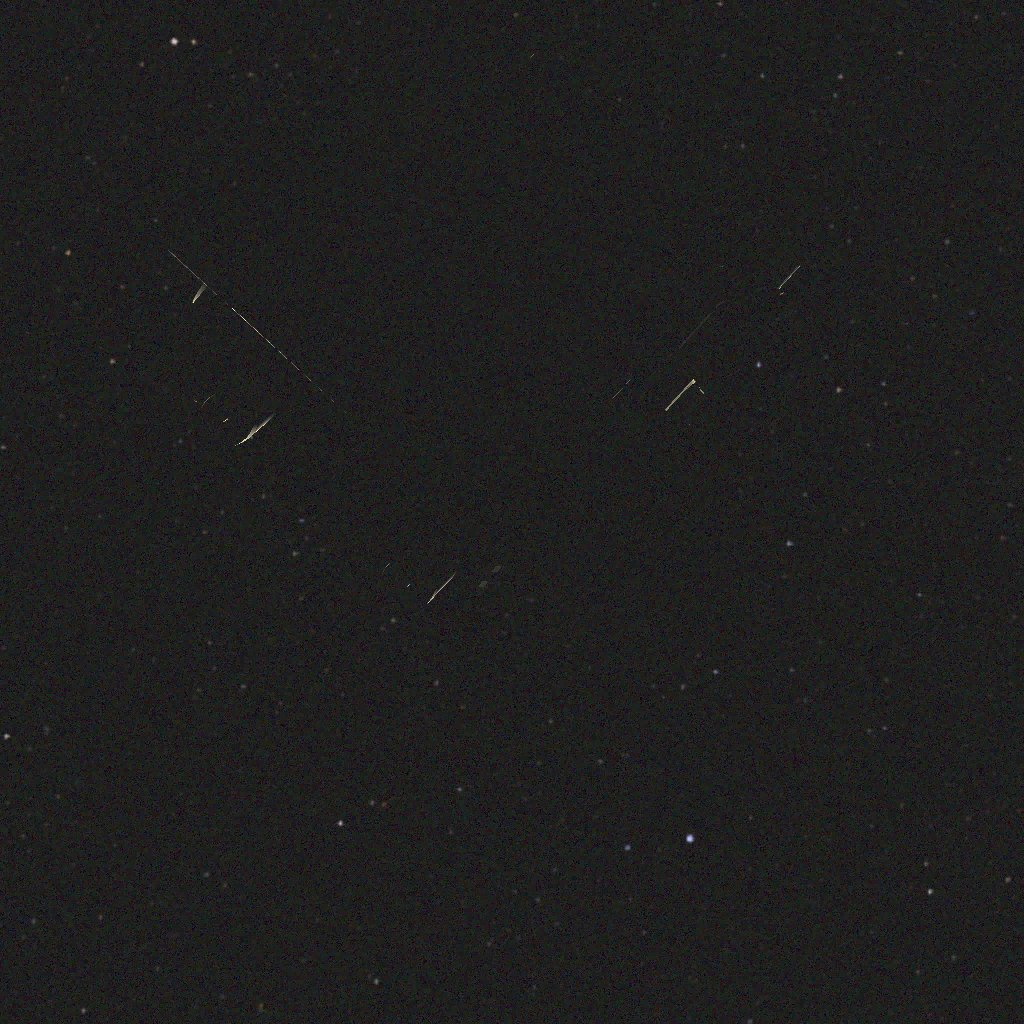proba_3_csc: (169, 27, 801, 685)
